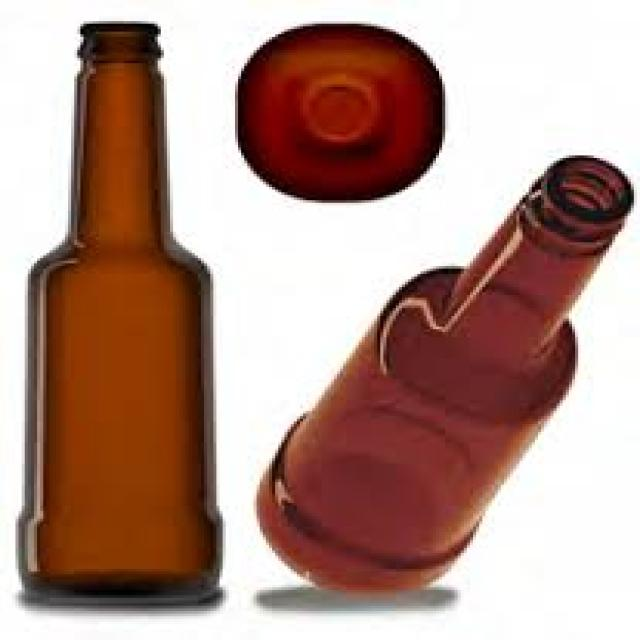glass: (254, 153, 631, 595), (13, 21, 220, 601), (232, 21, 445, 200)
